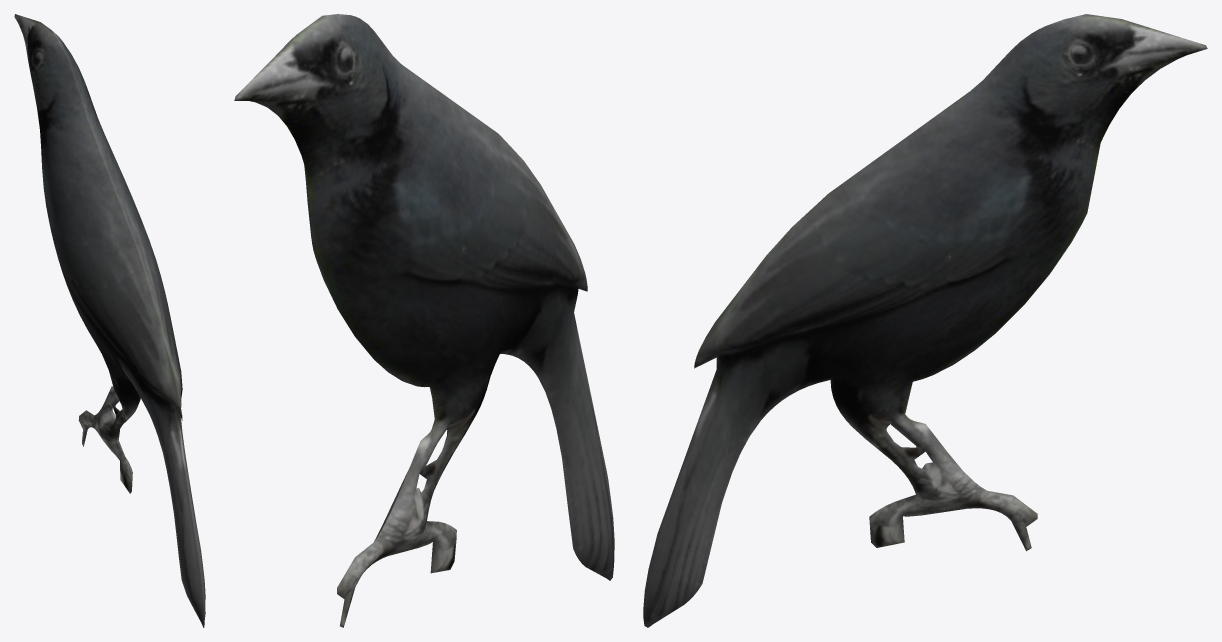
File: 1800-removebg-preview.gltf
3 views of the same model, side by side, from view 1: azimuth 30°, elevation 25°; view 2: azimuth 150°, elevation 25°; view 3: azimuth 270°, elevation 25° (orthographic). The views are drawn at different scales.
Parts seen in each view (by area): view 1: node1; view 2: node1; view 3: node1.
Boxes of the visible parts, x1,y1,x2,y2 form: node1: [14, 14, 205, 627]; node1: [234, 14, 614, 627]; node1: [643, 14, 1207, 627].
Bounding box in the file's own units: 0.2511 × 1.46 × 1.2.
1 material, 1 textured.
